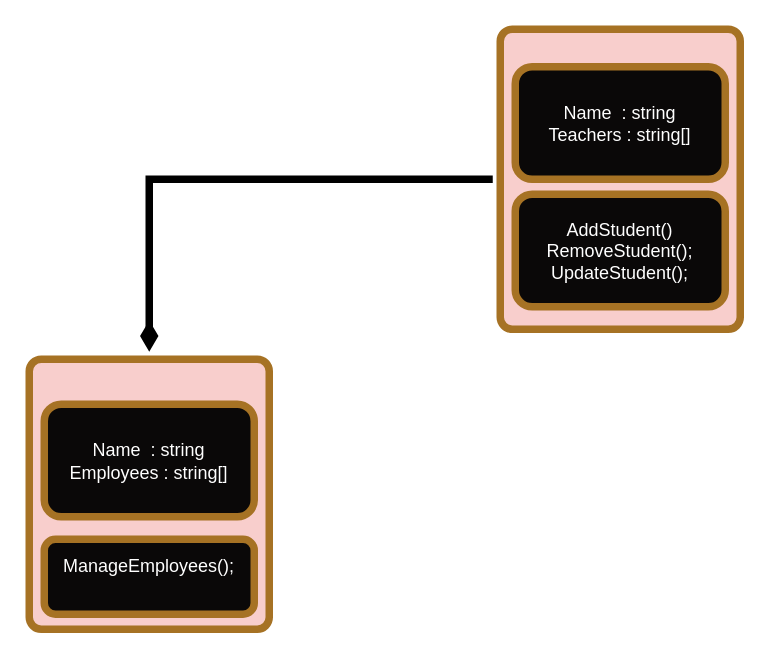
Some shapes in this 770 by 659 pixel diagram are drawn without their labels. Each missing label, with the box of its shape:
Departman: (25, 355, 272, 632)
Üniveriste: (496, 25, 743, 332)
